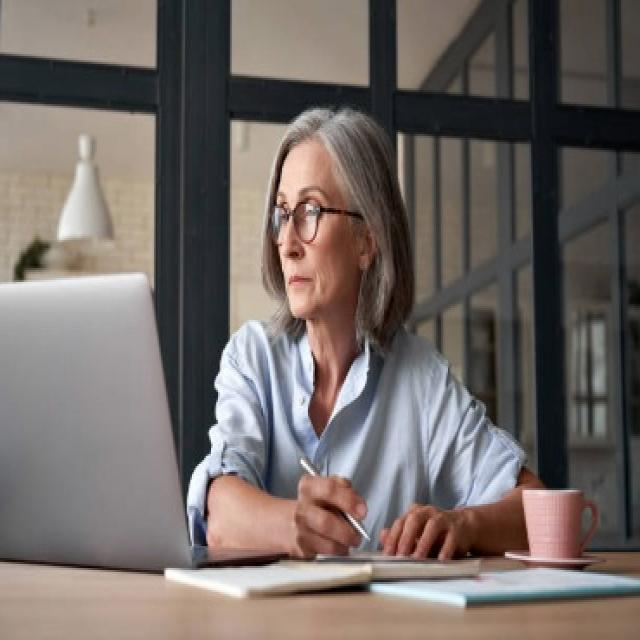adult: (196, 105, 534, 556)
